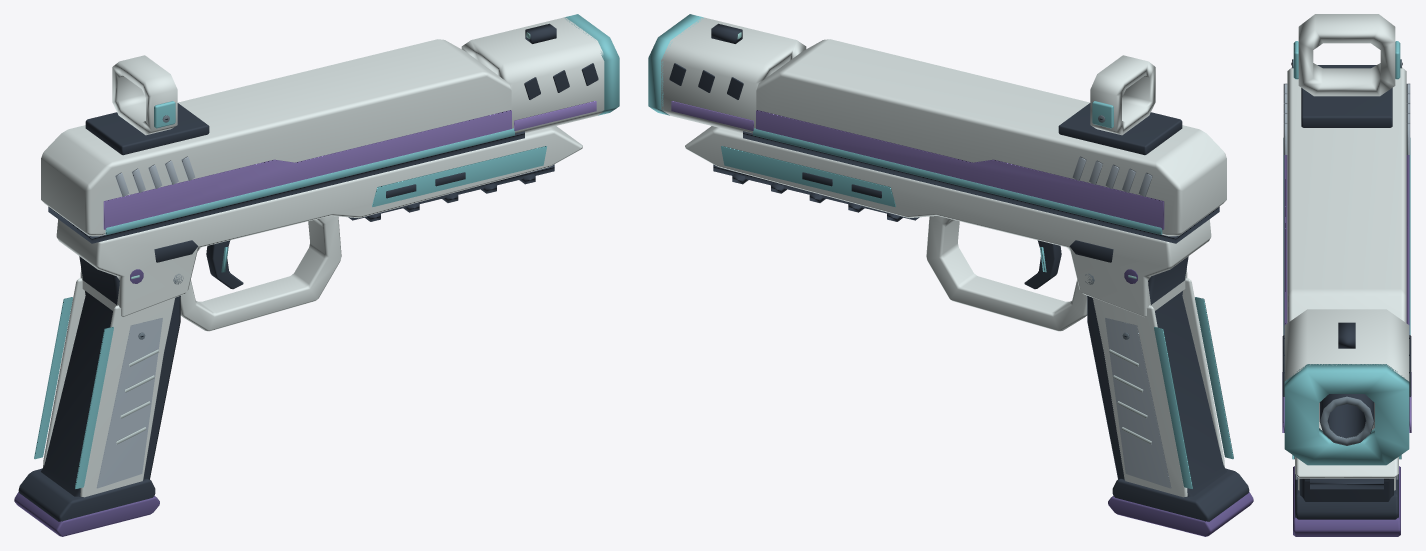
Rendered from SM_Mint_Pistol_Heavy.glb.
3 views of the same model, side by side, from view 1: azimuth 30°, elevation 25°; view 2: azimuth 150°, elevation 25°; view 3: azimuth 270°, elevation 25° (orthographic). The views are drawn at different scales.
Parts seen in each view (by area): view 1: SM_Mint_Pistol_Heavy; view 2: SM_Mint_Pistol_Heavy; view 3: SM_Mint_Pistol_Heavy.
Part boxes in pixels (x1=…): SM_Mint_Pistol_Heavy: x1=14, y1=14, x2=619, y2=536; SM_Mint_Pistol_Heavy: x1=648, y1=14, x2=1253, y2=536; SM_Mint_Pistol_Heavy: x1=1282, y1=14, x2=1411, y2=536.
Size of the model in its own units: 0.3132 by 0.2282 by 0.0507.
